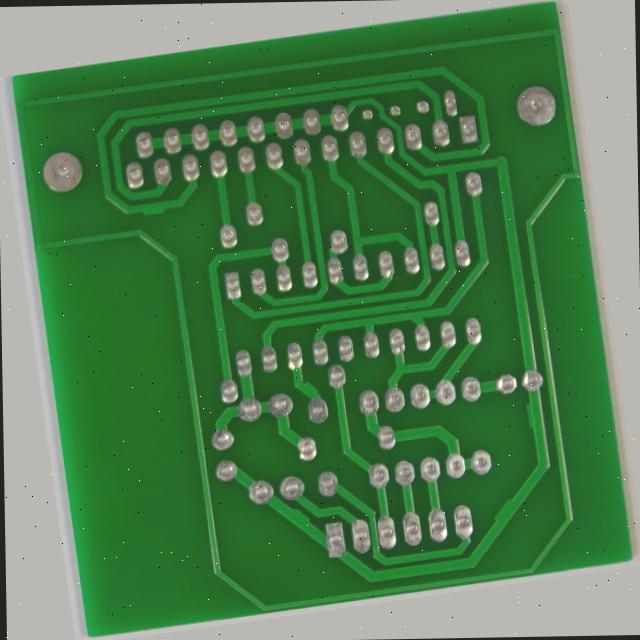spur: (481, 538, 519, 571), (247, 519, 287, 548), (528, 436, 557, 471), (132, 161, 167, 186), (282, 382, 311, 403)
